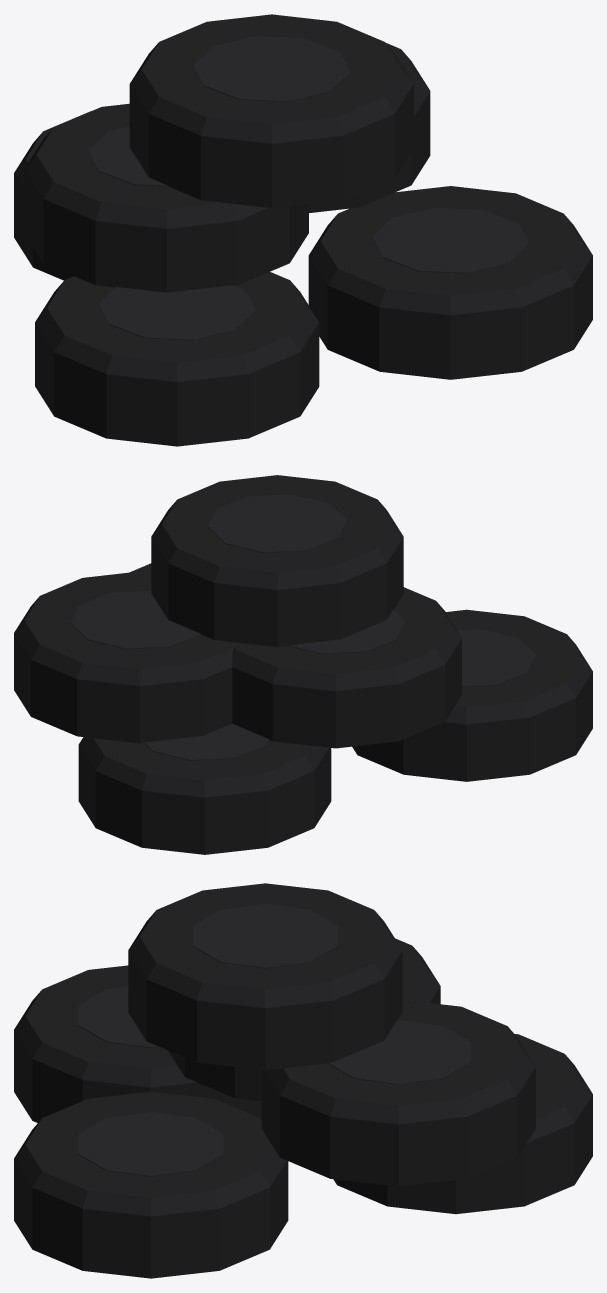
File: tire_pile.glb
3 renders of one model, top to bottom at view 1: azimuth 30°, elevation 25°; view 2: azimuth 150°, elevation 25°; view 3: azimuth 270°, elevation 25°, orthographic. The views are drawn at different scales.
Visible parts, largest first — view 1: tire_pile; view 2: tire_pile; view 3: tire_pile.
Boxes of the visible parts, x1,y1,x2,y2 form: tire_pile: (14,14,592,446); tire_pile: (14,475,592,854); tire_pile: (14,883,592,1278).
Size of what is drawn, in the model's own units: 1.52 by 0.662 by 1.52.
Materials: 2 (2 with a texture image).
